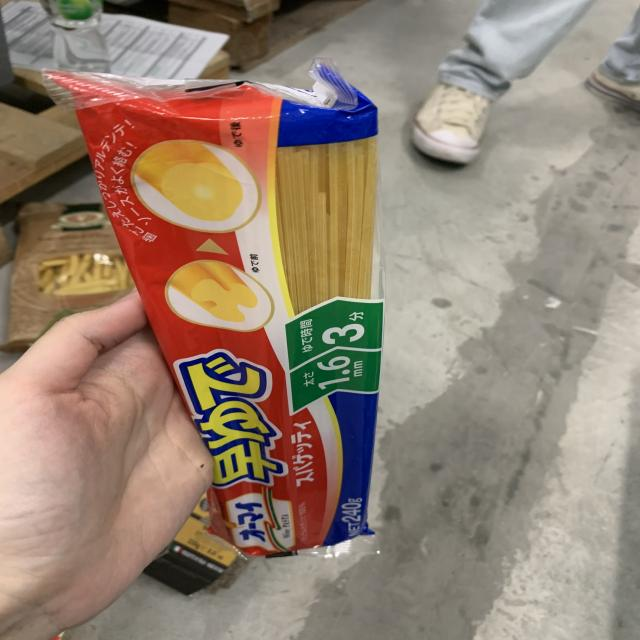object_name: (91, 90, 379, 552)
